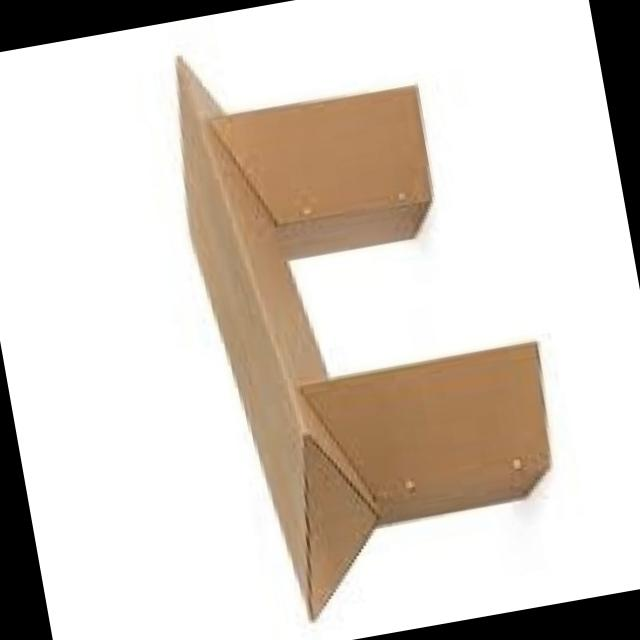cardboard paper: (174, 63, 546, 620), (300, 345, 546, 526)
